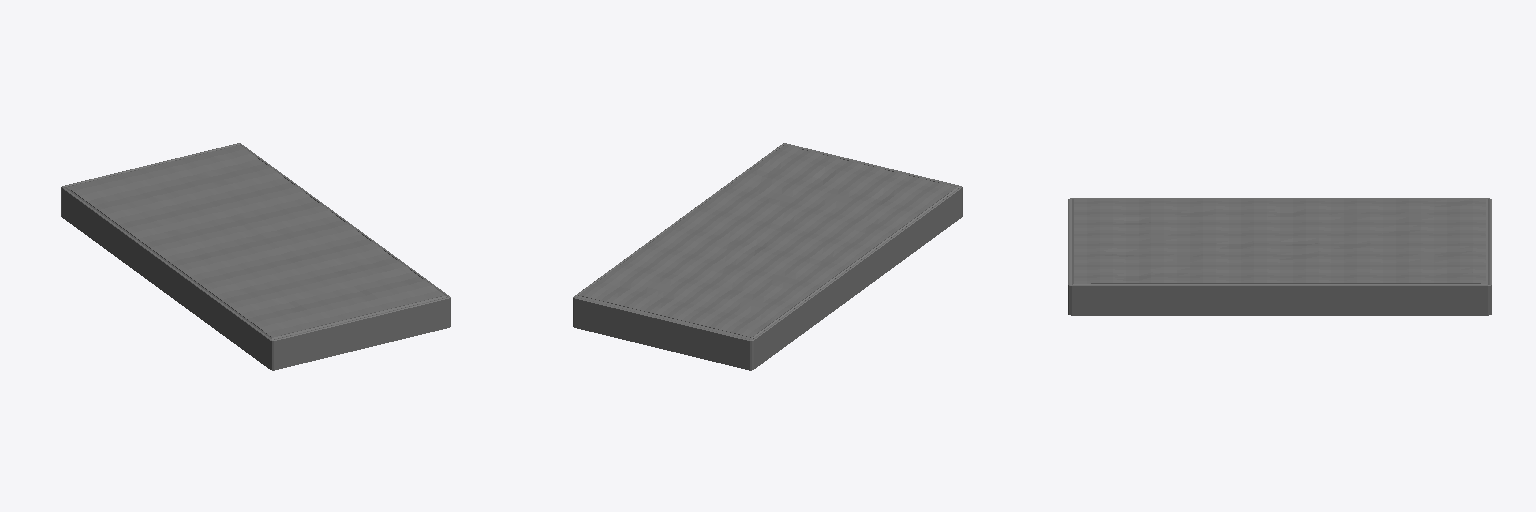
Rendered from Mattress.obj.
3 renders of one model, left to right at view 1: azimuth 30°, elevation 25°; view 2: azimuth 150°, elevation 25°; view 3: azimuth 270°, elevation 25°, orthographic.
Visible parts, largest first — view 1: Cube; view 2: Cube; view 3: Cube.
Boxes of the visible parts, x1,y1,x2,y2 form: Cube: [61, 143, 450, 370]; Cube: [573, 143, 962, 370]; Cube: [1068, 198, 1491, 315].
Bounding box in the file's own units: 38.35 × 6.37 × 78.19.